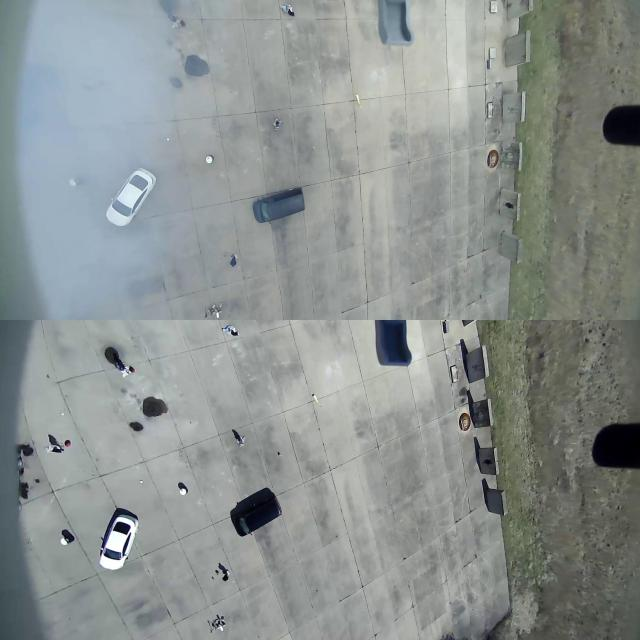car: (230, 482, 282, 540), (104, 168, 154, 228), (99, 505, 138, 571), (253, 183, 304, 224)
